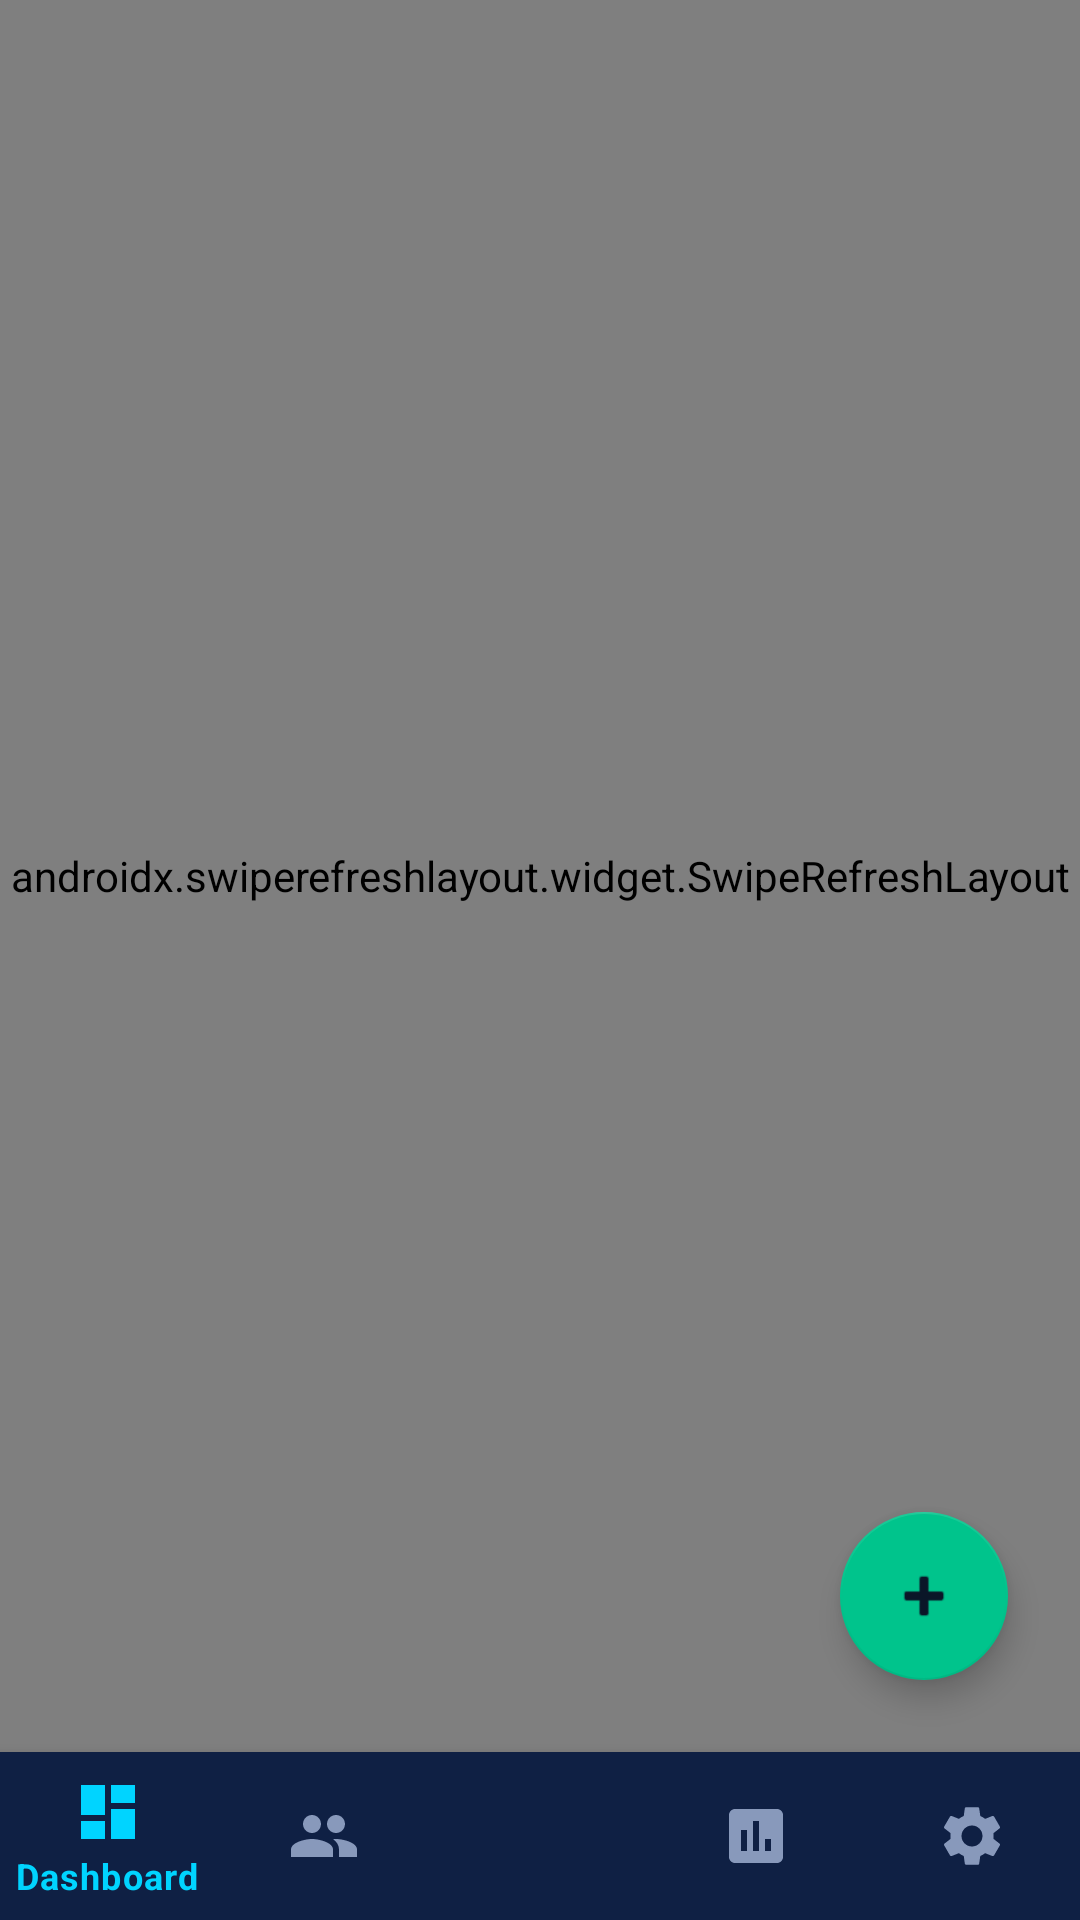

Point at icon controls on the screen. Image size 1080*1920, points as (x=x, y=y).
add: (x=924, y=1596)
